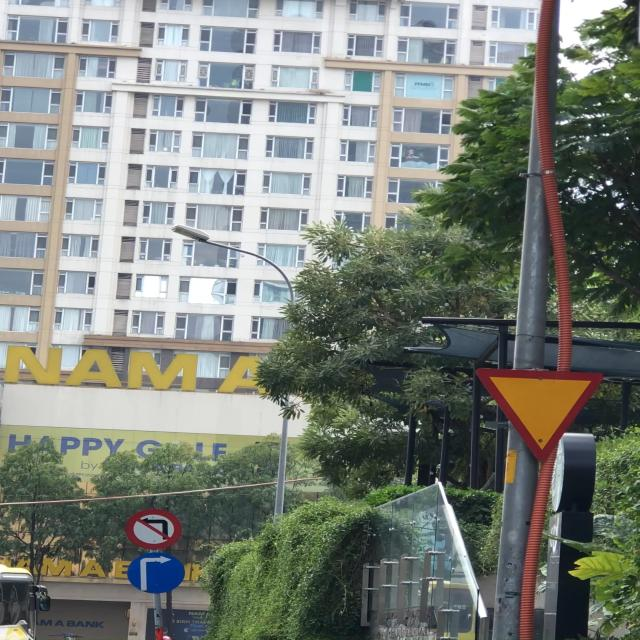Bien bao cam re trai: (123, 507, 182, 552)
Bien bao giao nhau voi duong uu tien: (465, 361, 611, 463)
Bien bao huong di phai theo: (126, 550, 189, 598)
